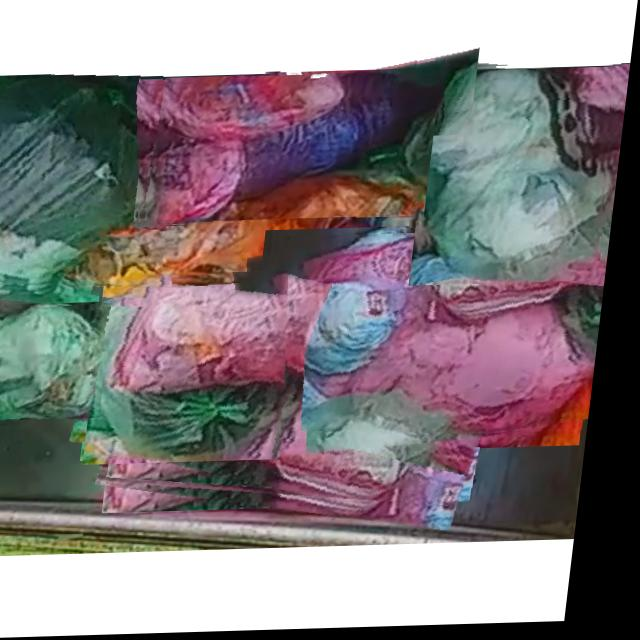general_trashbag: (425, 70, 611, 284), (0, 75, 179, 286), (100, 279, 294, 463), (0, 307, 113, 420)
other_trashbag: (115, 323, 499, 504), (267, 237, 605, 435), (155, 74, 442, 226), (259, 51, 481, 139)
